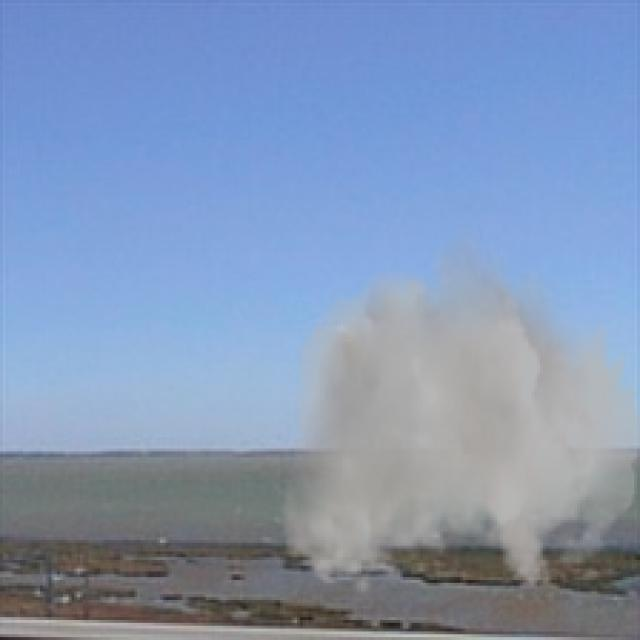smoke: (280, 220, 637, 600)
